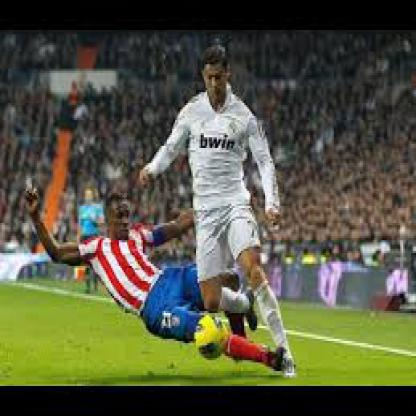Fall_Down: (23, 182, 290, 372)
